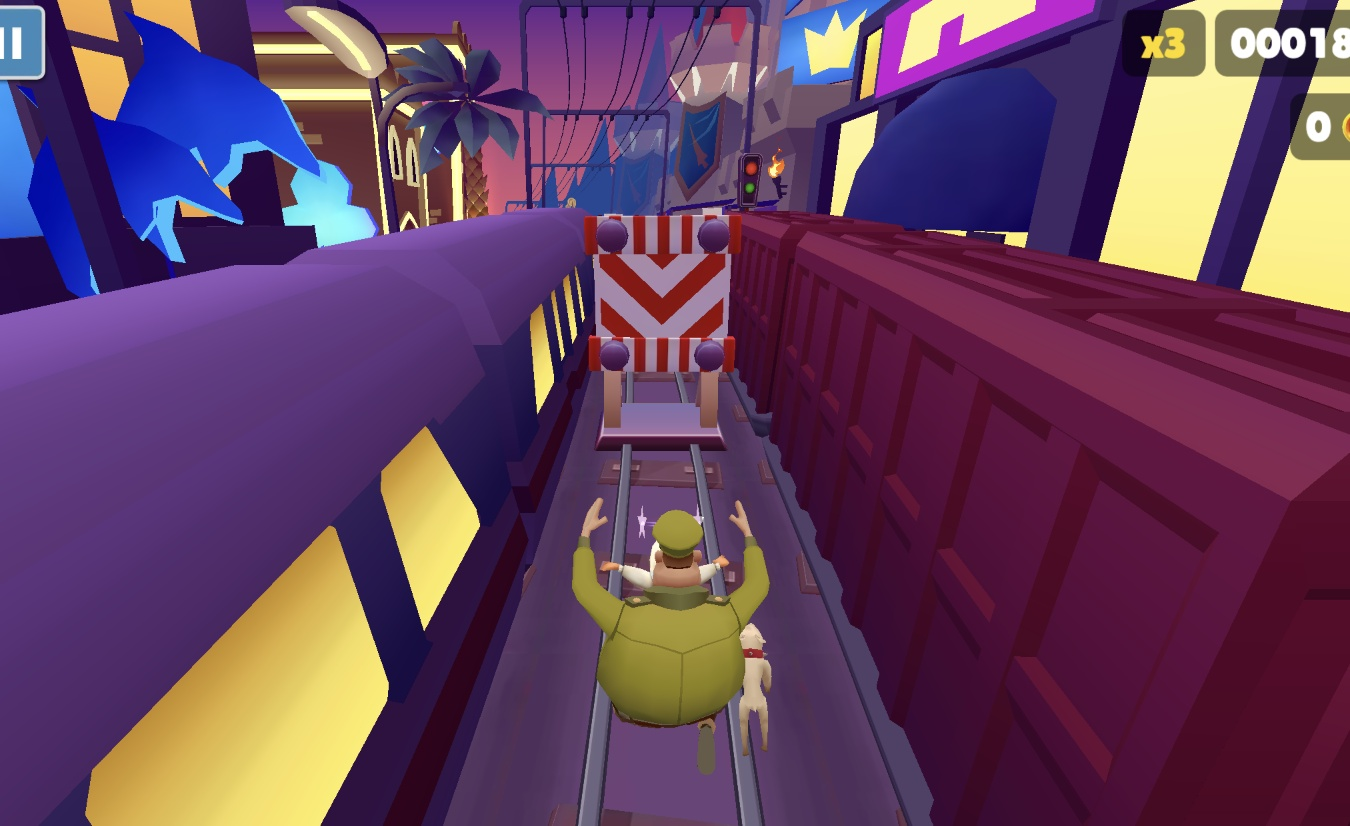overhead_barrier: (584, 209, 739, 452)
train: (717, 210, 1350, 826), (0, 208, 602, 826)
